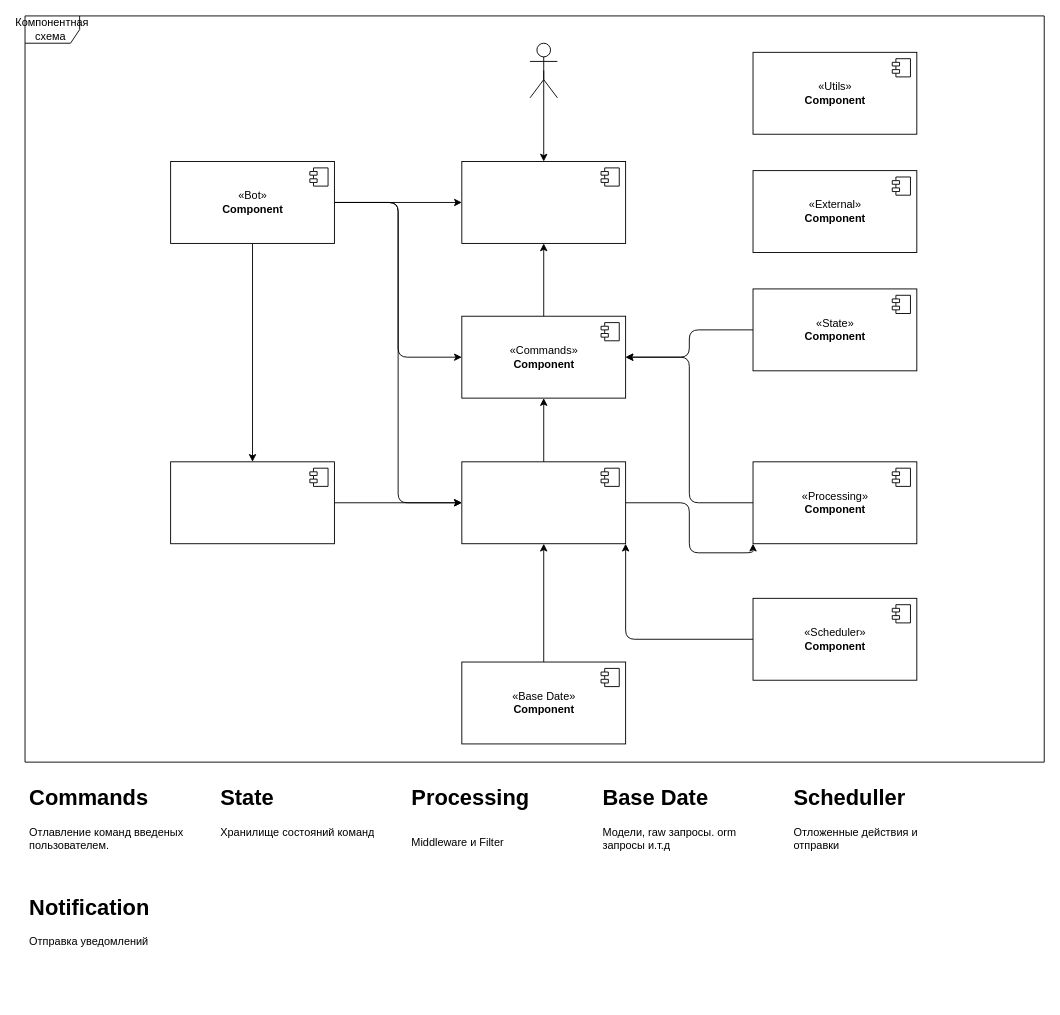
The diagram is 1060 pixels wide and 1015 high, and some of its shapes have lost their labels. Here are the shapes that lost their labels. From the top down, the centre of each, then its label:
(543,70): Actor
(543,202): «Main» Component
(252,502): «Notification» Component
(543,502): «Controllers» Component
